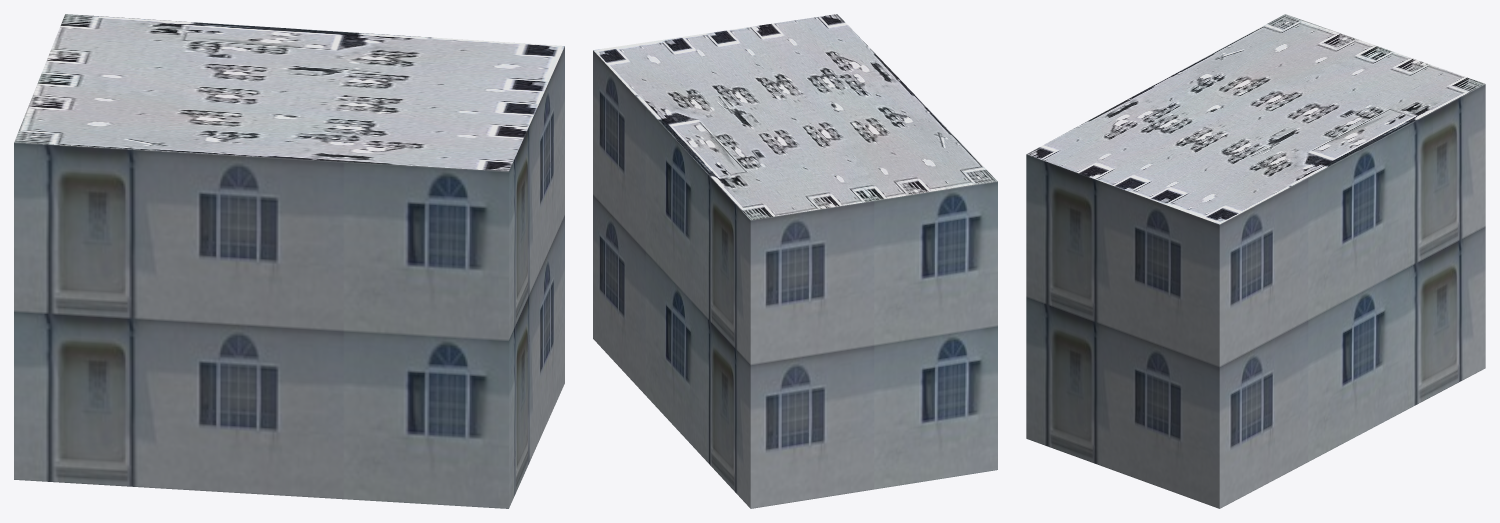
File: ResTex__5236.fbx
The picture shows the model from 3 angles, left to right: view 1: azimuth 30°, elevation 25°; view 2: azimuth 150°, elevation 25°; view 3: azimuth 270°, elevation 25°; orthographic projection. The views are drawn at different scales.
Parts seen in each view (by area): view 1: CityEngineMaterial_17_m, CityEngineMaterial_m; view 2: CityEngineMaterial_17_m, CityEngineMaterial_m; view 3: CityEngineMaterial_17_m, CityEngineMaterial_m.
Part boxes in pixels (x1=…): CityEngineMaterial_17_m: x1=14, y1=46, x2=564, y2=508; CityEngineMaterial_m: x1=14, y1=14, x2=564, y2=171; CityEngineMaterial_17_m: x1=593, y1=50, x2=997, y2=508; CityEngineMaterial_m: x1=593, y1=14, x2=997, y2=220; CityEngineMaterial_17_m: x1=1026, y1=84, x2=1485, y2=508; CityEngineMaterial_m: x1=1026, y1=14, x2=1484, y2=224.
Size of the model in its own units: 9.53 by 6 by 8.78.
Materials: 2 (2 with a texture image).
